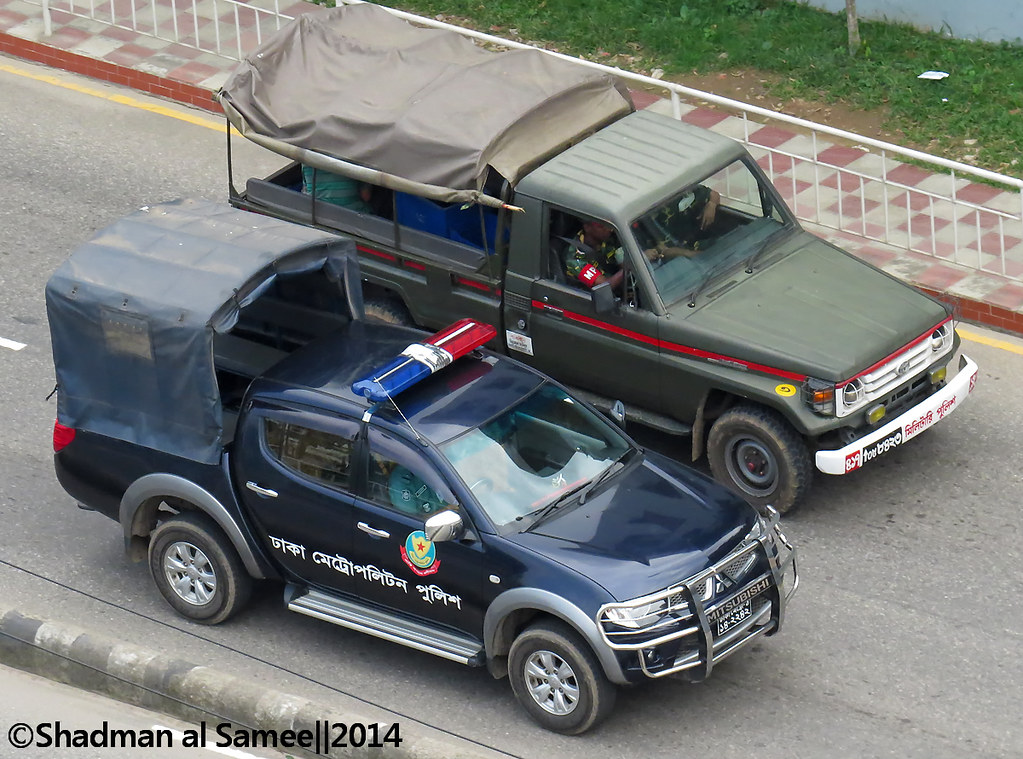army vehicle: (213, 4, 980, 516)
policecar: (44, 196, 803, 737)
